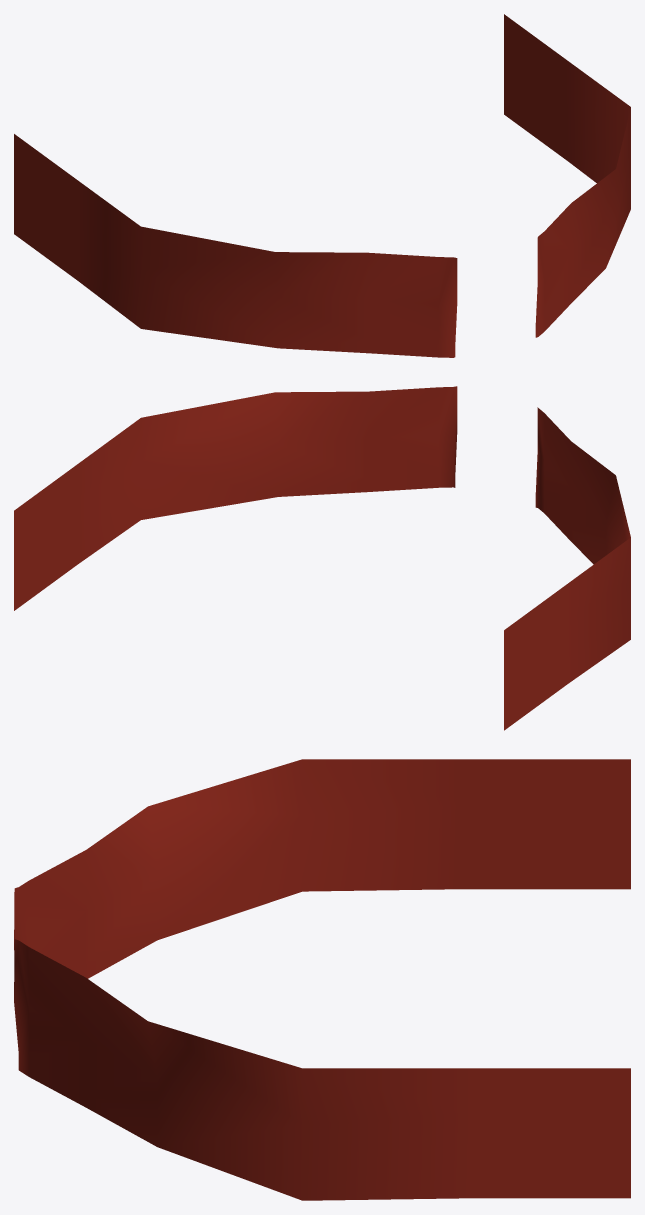
Rendered from wall.fbx.
The picture shows the model from 3 angles, top to bottom: view 1: azimuth 30°, elevation 25°; view 2: azimuth 150°, elevation 25°; view 3: azimuth 270°, elevation 25°; orthographic projection. The views are drawn at different scales.
Visible parts, largest first — view 1: 円柱.000; view 2: 円柱.000; view 3: 円柱.000.
Part boxes in pixels (x1=…): 円柱.000: x1=14, y1=14, x2=630, y2=357; 円柱.000: x1=14, y1=386, x2=630, y2=730; 円柱.000: x1=14, y1=759, x2=630, y2=1200.
Bounding box in the file's own units: 4796 × 958 × 4045.
